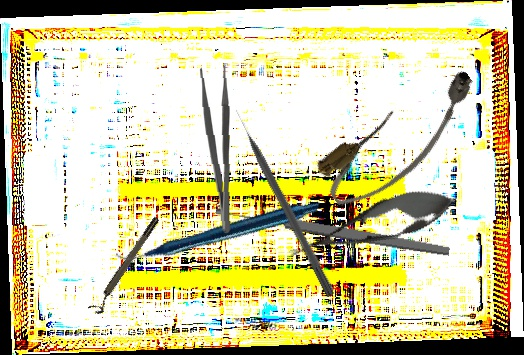Cannula: (310, 59, 495, 219)
Dressing Forceps: (199, 64, 234, 235)
Fixation Ring: (87, 215, 166, 317)
Handpiece: (114, 140, 321, 320)
Micro Scissor: (282, 175, 464, 275)
Pusher: (231, 106, 338, 298)
Surgical Spoon: (214, 203, 451, 259)
